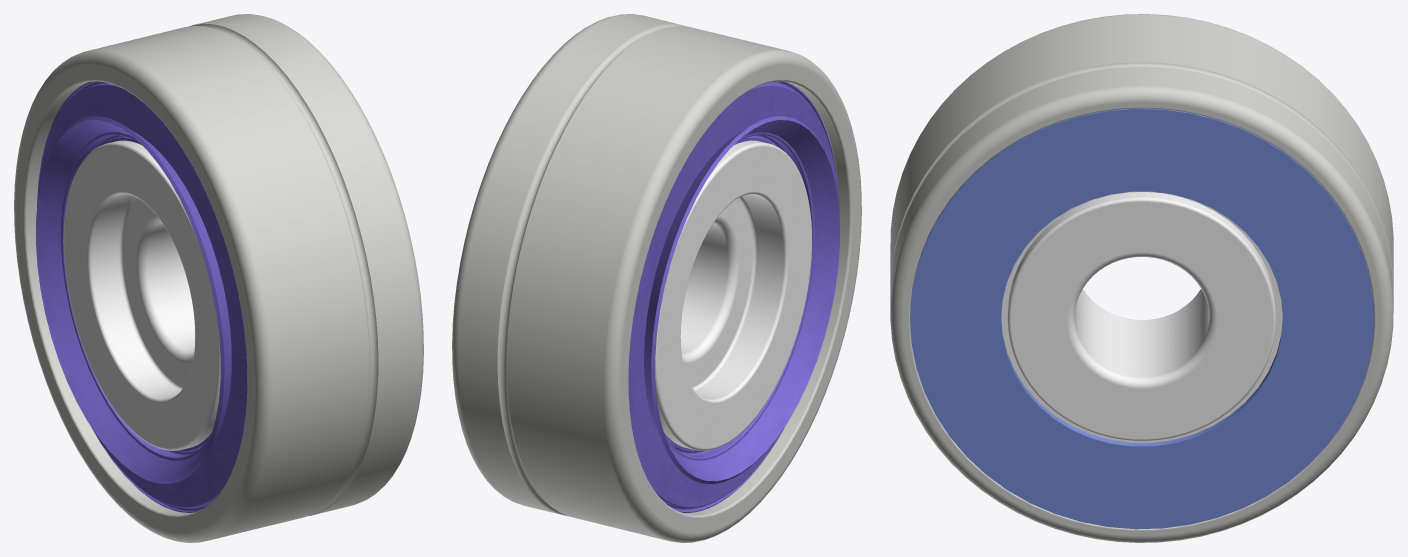
The model's file is F-562024-02-KLQ.glb.
The picture shows the model from 3 angles, left to right: view 1: azimuth 30°, elevation 25°; view 2: azimuth 150°, elevation 25°; view 3: azimuth 270°, elevation 25°; orthographic projection.
Visible parts, largest first — view 1: matte platinum, texture, texture-4; view 2: matte platinum, texture, texture-4; view 3: texture-3, matte platinum, texture.
Part boxes in pixels (x1,y1,x2,y2): matte platinum: [14, 14, 423, 542]; texture: [63, 140, 220, 450]; texture-4: [36, 81, 247, 512]; matte platinum: [452, 14, 861, 542]; texture: [655, 140, 811, 450]; texture-4: [628, 81, 839, 512]; texture-3: [910, 108, 1373, 529]; matte platinum: [890, 14, 1393, 542]; texture: [1001, 191, 1282, 442].
Size of the model in its own units: 0.0243 by 0.06 by 0.06.
9 materials, 5 textured.
